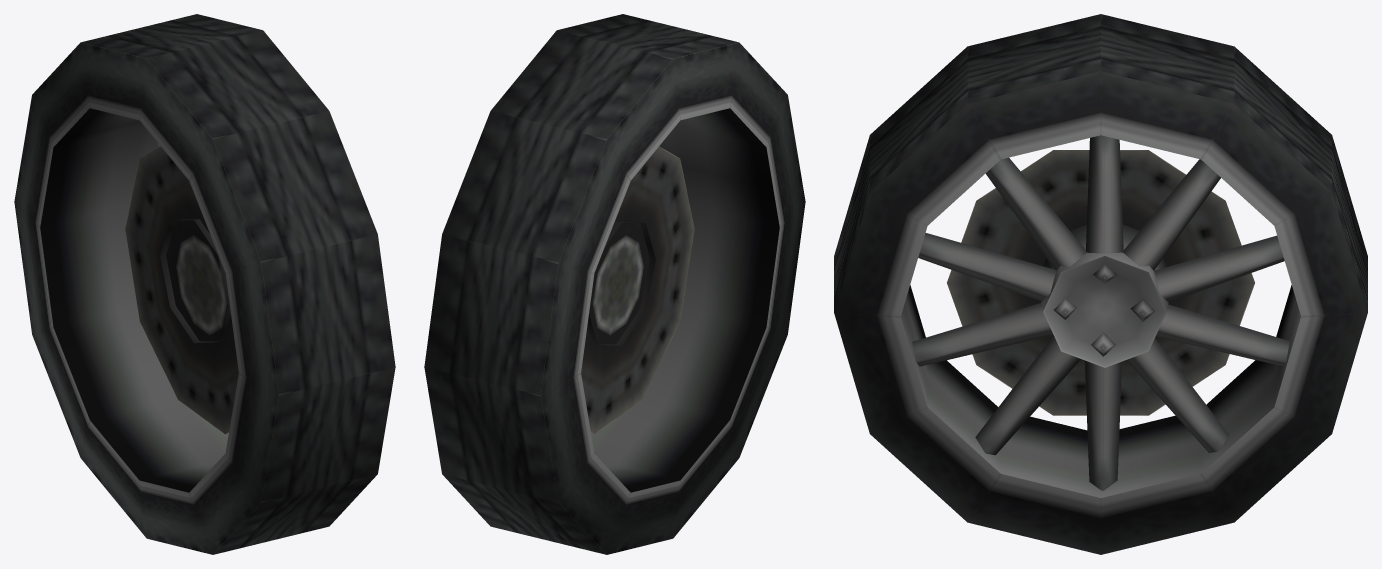
The model's file is wheel_sr2.glb.
3 views of the same model, side by side, from view 1: azimuth 30°, elevation 25°; view 2: azimuth 150°, elevation 25°; view 3: azimuth 270°, elevation 25° (orthographic).
Visible parts, largest first — view 1: wheel_sr2; view 2: wheel_sr2; view 3: wheel_sr2.
Boxes of the visible parts, x1,y1,x2,y2 form: wheel_sr2: (14, 14, 395, 554); wheel_sr2: (424, 14, 805, 554); wheel_sr2: (834, 14, 1367, 554).
Size of the model in its own units: 0.285 by 0.9843 by 0.9843.
2 materials, 2 textured.
